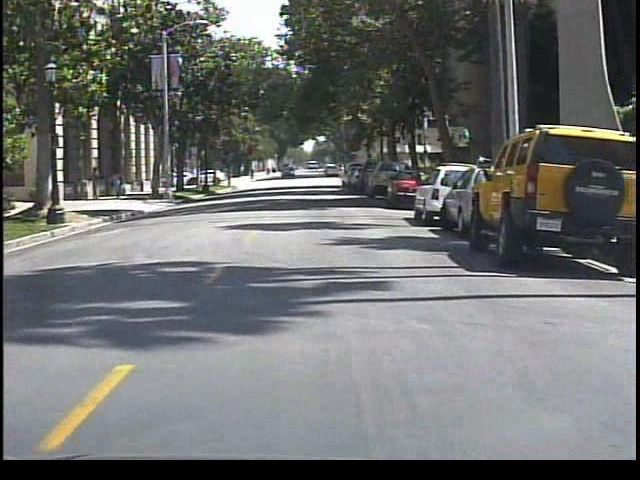person: (110, 167, 133, 202), (89, 166, 109, 205), (338, 162, 352, 187)
